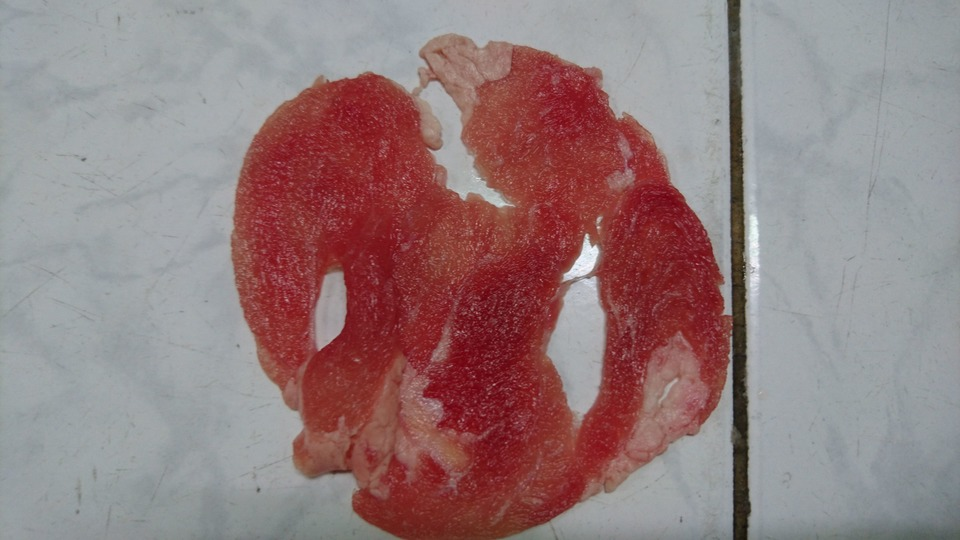restructured meat: (193, 33, 737, 528)
